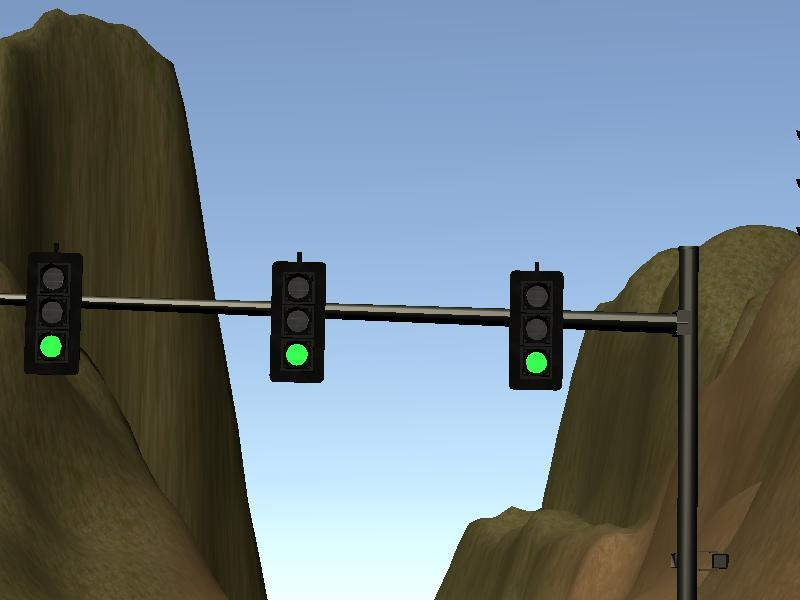traffic_light_green: (12, 250, 632, 395)
